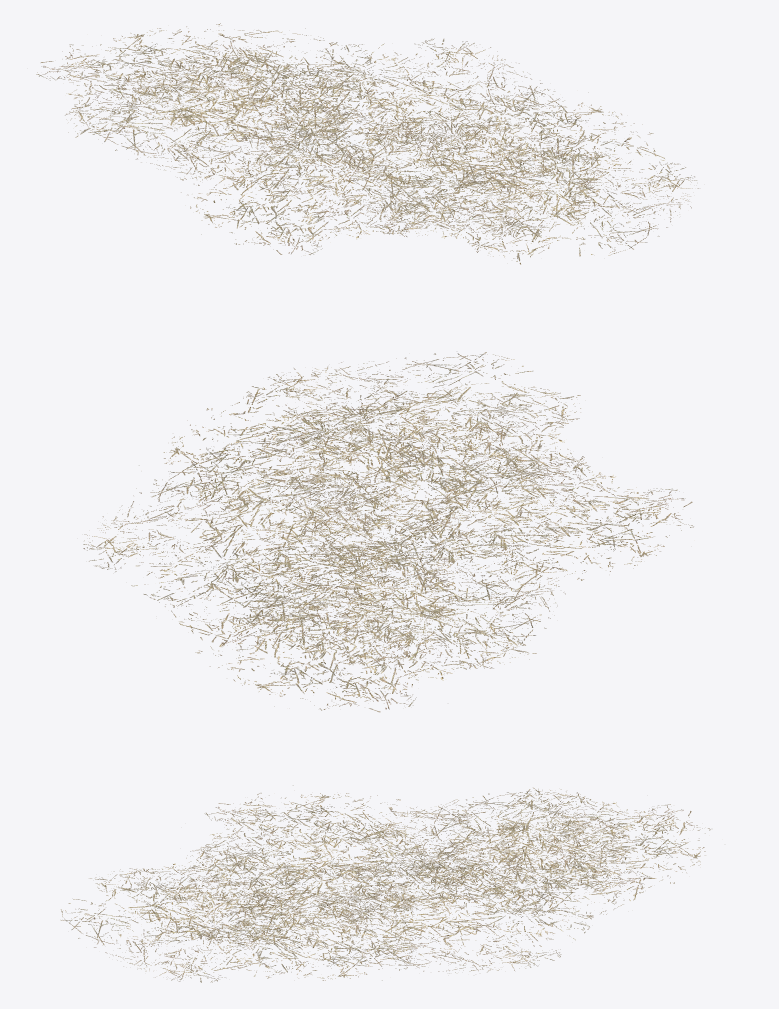
The model's file is Hay_3.glb.
3 renders of one model, top to bottom at view 1: azimuth 30°, elevation 25°; view 2: azimuth 150°, elevation 25°; view 3: azimuth 270°, elevation 25°, orthographic. The views are drawn at different scales.
Visible parts, largest first — view 1: SM_Hay_3; view 2: SM_Hay_3; view 3: SM_Hay_3.
Boxes of the visible parts, <box> form: SM_Hay_3: <box>36,23,698,264</box>; SM_Hay_3: <box>83,352,693,712</box>; SM_Hay_3: <box>60,785,710,982</box>.
Bounding box in the file's own units: 0.4684 × 0.0131 × 0.6331.
Materials: 1 (1 with a texture image).
